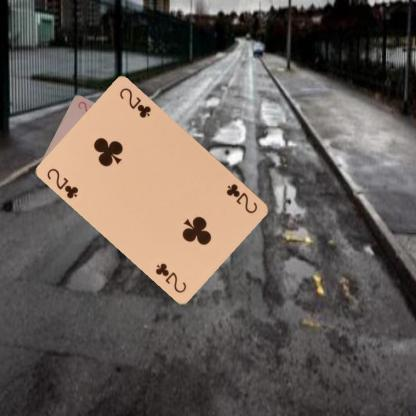2c: (224, 181, 260, 215), (44, 166, 80, 200)
